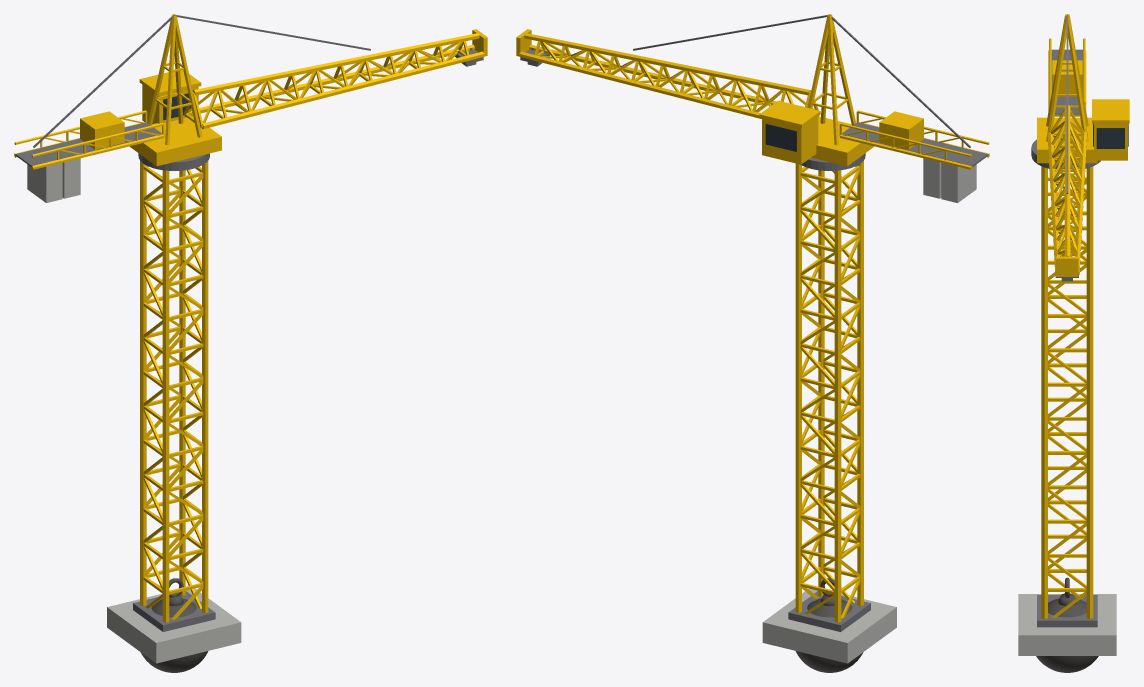
The model's file is crane.glb.
3 views of the same model, side by side, from view 1: azimuth 30°, elevation 25°; view 2: azimuth 150°, elevation 25°; view 3: azimuth 270°, elevation 25° (orthographic).
Visible parts, largest first — view 1: Crane, Ball; view 2: Crane, Ball; view 3: Crane, Ball.
Boxes of the visible parts, x1,y1,x2,y2 form: Crane: (14,14,487,663); Ball: (140,578,208,672); Crane: (516,14,989,663); Ball: (795,578,863,672); Crane: (1018,14,1129,655); Ball: (1036,577,1098,672).
Size of the model in its own units: 14.01 by 19.12 by 2.95.
